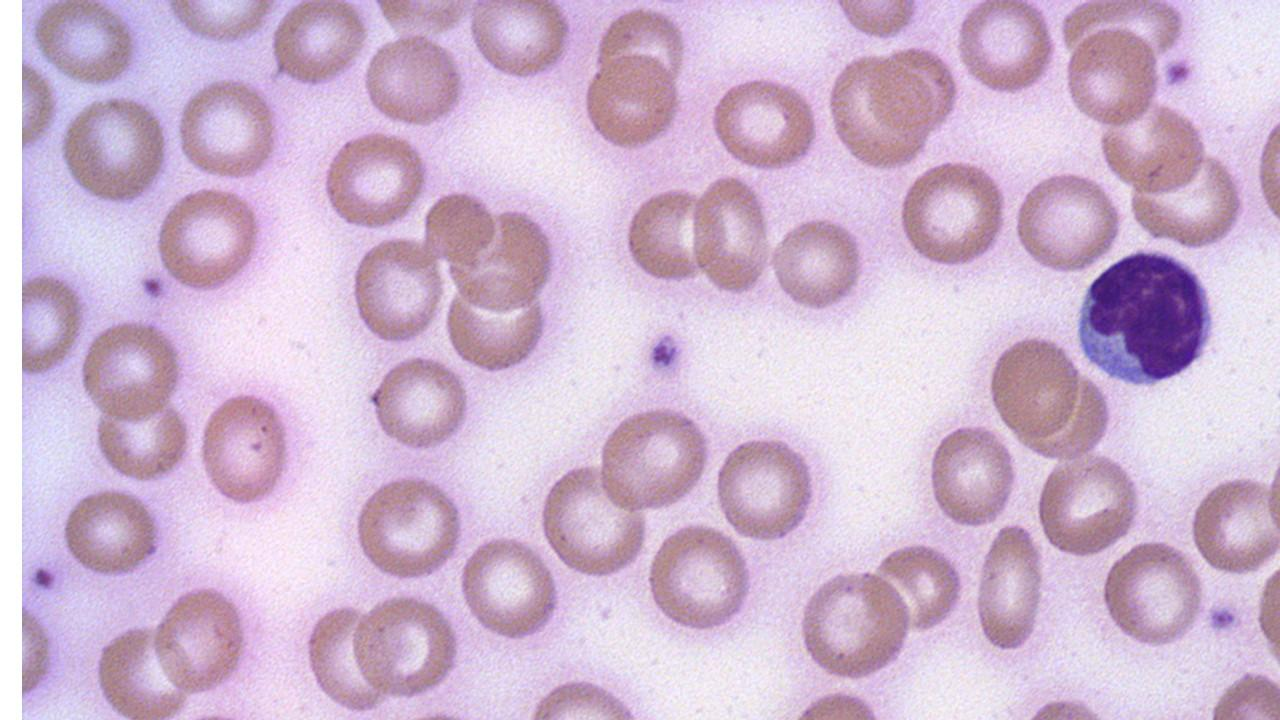Platelets: (1203, 599, 1243, 636), (1162, 55, 1198, 90)
RBC: (795, 566, 914, 682), (536, 460, 650, 580), (596, 402, 716, 516), (58, 93, 173, 205), (895, 158, 1010, 270), (349, 472, 465, 583), (1129, 144, 1247, 251), (827, 51, 933, 170), (442, 204, 558, 312), (645, 522, 756, 634), (350, 590, 463, 700), (153, 186, 266, 294), (195, 388, 295, 508), (1012, 168, 1125, 274), (1036, 448, 1144, 558), (174, 75, 284, 182), (712, 431, 816, 544), (706, 74, 824, 173), (1100, 539, 1206, 649), (150, 581, 252, 695), (78, 316, 187, 422), (458, 532, 562, 642), (318, 129, 430, 231), (1094, 96, 1208, 196), (688, 170, 774, 298), (350, 234, 447, 347), (580, 50, 684, 154), (1061, 25, 1163, 130), (367, 354, 475, 452), (986, 331, 1082, 439), (448, 274, 550, 375), (768, 214, 869, 316), (360, 31, 466, 128), (591, 2, 692, 102), (93, 618, 194, 718), (926, 421, 1019, 529), (58, 485, 166, 578), (952, 2, 1058, 96), (306, 601, 394, 713), (30, 2, 144, 88), (1188, 471, 1280, 577), (972, 521, 1046, 652), (623, 184, 714, 288), (92, 391, 193, 483), (870, 540, 966, 636), (466, 1, 574, 83), (868, 44, 960, 138), (271, 1, 369, 88), (23, 268, 88, 382), (419, 189, 499, 269), (521, 676, 647, 719), (163, 1, 277, 46), (829, 1, 925, 42), (1204, 667, 1280, 717), (1252, 548, 1280, 680), (1253, 102, 1279, 240), (371, 0, 473, 32), (1262, 430, 1280, 561)
WBC: (1070, 245, 1222, 391)
